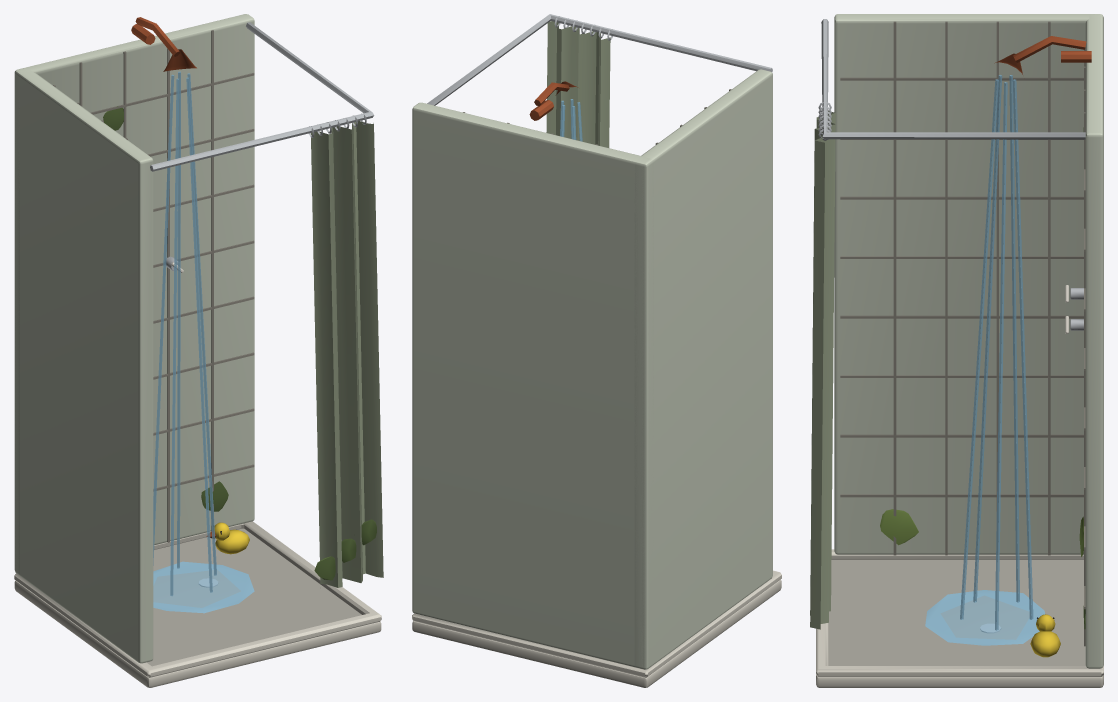
The model's file is shower_drizzle.glb.
The picture shows the model from 3 angles, left to right: view 1: azimuth 30°, elevation 25°; view 2: azimuth 150°, elevation 25°; view 3: azimuth 270°, elevation 25°; orthographic projection. The views are drawn at different scales.
Visible parts, largest first — view 1: shower_drizzle, water; view 2: shower_drizzle; view 3: shower_drizzle, water.
Boxes of the visible parts, x1,y1,x2,y2 form: shower_drizzle: (14,14,383,687); water: (153,71,254,613); shower_drizzle: (412,14,781,687); shower_drizzle: (810,14,1103,687); water: (925,75,1044,645).
Bounding box in the file's own units: 0.95 × 2.13 × 0.9591.
